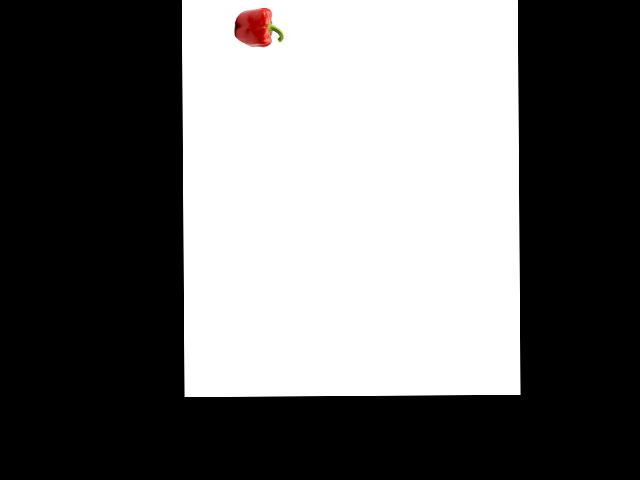bell_pepper: (232, 5, 284, 50)
